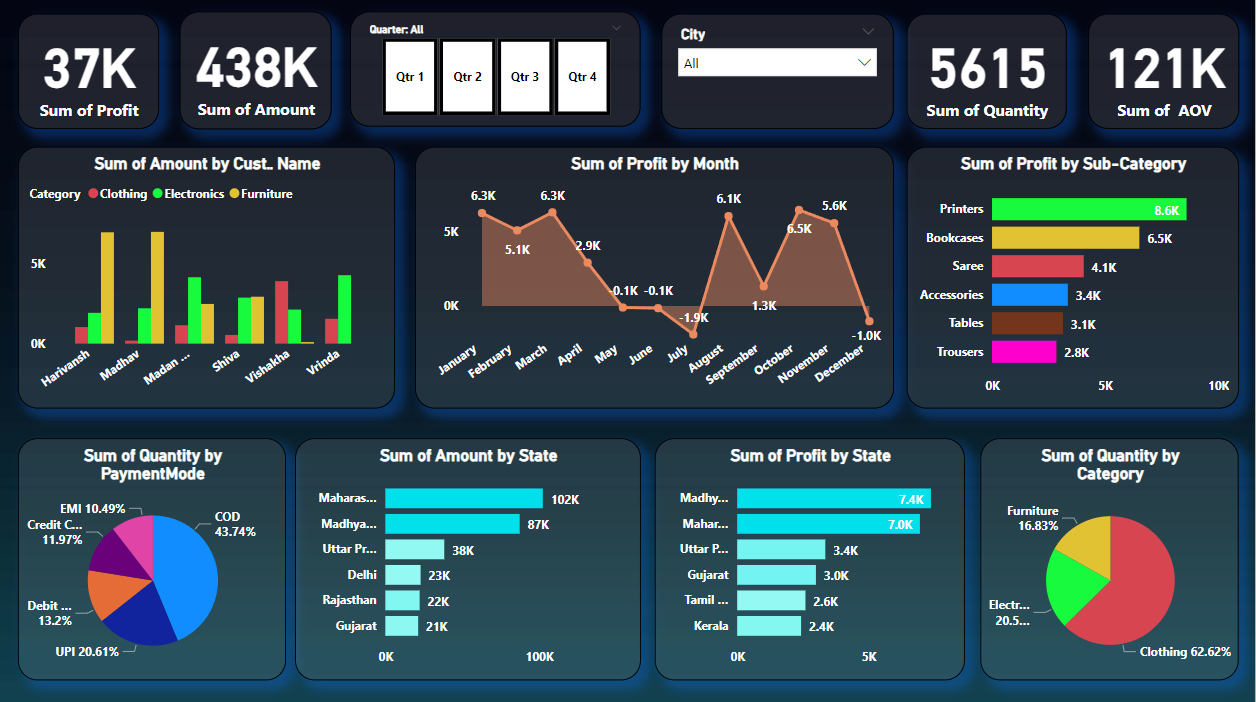

The page's visual inventory and layout, read from the dashboard file:
{"tool":"powerbi","page":{"name":"Page 1","canvas":[1280,720],"ordinal":0},"visuals":[{"type":"areaChart","fields":{"Y":["Sum(Details.Profit)"],"Category":["Orders.Order Date.Variation.Date Hierarchy.Month"]},"box":[425.3,153.3,486.9,266.4],"z":0},{"type":"barChart","fields":{"Category":["Details.Sub-Category"],"Y":["Sum(Details.Profit)"]},"box":[925.6,153.3,338,266.4],"z":1000},{"type":"pieChart","fields":{"Y":["Sum(Details.Quantity)"],"Category":["Details.Category"]},"box":[1000.6,449.9,263,246.2],"z":2000},{"type":"pieChart","fields":{"Category":["Details.PaymentMode"],"Y":["Sum(Details.Quantity)"]},"box":[21.3,449.9,273.1,246.2],"z":3000},{"type":"card","fields":{"Values":["Sum(Details.Amount)"]},"box":[185.8,15.7,154.5,119.8],"z":4000},{"type":"card","fields":{"Values":["Sum(Details.Profit)"]},"box":[21.3,17.9,143.3,117.5],"z":5000},{"type":"card","fields":{"Values":["Sum(Details.Quantity)"]},"box":[925.6,17.9,162.3,117.5],"z":6000},{"type":"card","fields":{"Values":["Sum(Details.AVG Order_value)"]},"box":[1110.3,17.9,153.3,117.5],"z":7000},{"type":"barChart","fields":{"Y":["Sum(Details.Profit)"],"Category":["Orders.State"]},"box":[669.3,449.9,315.6,246.2],"z":8000},{"type":"barChart","fields":{"Category":["Orders.State"],"Y":["Sum(Details.Amount)"]},"box":[303.3,449.9,351.4,246.2],"z":9000},{"type":"clusteredColumnChart","title":"Sum of Amount by Cust.. Name  ","fields":{"Category":["Orders.CustomerName"],"Series":["Details.Category"],"Y":["Sum(Details.Amount)"]},"box":[21.3,153.3,383.9,266.4],"z":10000},{"type":"slicer","fields":{"Values":["Orders.Order Date.Variation.Date Hierarchy.Quarter"]},"box":[359.3,15.7,295.5,117.5],"z":11000},{"type":"slicer","fields":{"Values":["Orders.City"]},"box":[676,17.9,236.2,117.5],"z":12000}]}

Visuals, with their boxes in screenshot pixels (x1, y1, x2, y2), scaled from the page's 1280x720 canvas onto the 1256x702 screenshot:
areaChart - Sum(Details.Profit) x Orders.Order Date.Variation.Date Hierarchy.Month: (left=417, top=149, right=895, bottom=409)
barChart - Details.Sub-Category x Sum(Details.Profit): (left=908, top=149, right=1240, bottom=409)
pieChart - Sum(Details.Quantity) x Details.Category: (left=982, top=439, right=1240, bottom=679)
pieChart - Details.PaymentMode x Sum(Details.Quantity): (left=21, top=439, right=289, bottom=679)
card - Sum(Details.Amount): (left=182, top=15, right=334, bottom=132)
card - Sum(Details.Profit): (left=21, top=17, right=162, bottom=132)
card - Sum(Details.Quantity): (left=908, top=17, right=1068, bottom=132)
card - Sum(Details.AVG Order_value): (left=1089, top=17, right=1240, bottom=132)
barChart - Sum(Details.Profit) x Orders.State: (left=657, top=439, right=966, bottom=679)
barChart - Orders.State x Sum(Details.Amount): (left=298, top=439, right=642, bottom=679)
"Sum of Amount by Cust.. Name  " clusteredColumnChart: (left=21, top=149, right=398, bottom=409)
slicer - Orders.Order Date.Variation.Date Hierarchy.Quarter: (left=353, top=15, right=643, bottom=130)
slicer - Orders.City: (left=663, top=17, right=895, bottom=132)
